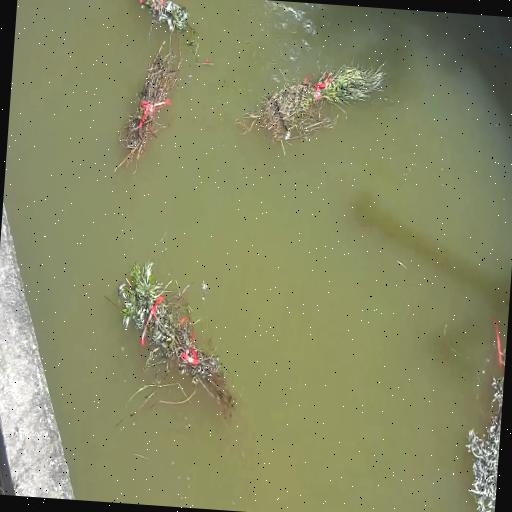twig: (111, 259, 249, 427), (234, 50, 383, 160), (114, 42, 182, 180), (460, 359, 505, 512), (131, 0, 194, 40)
